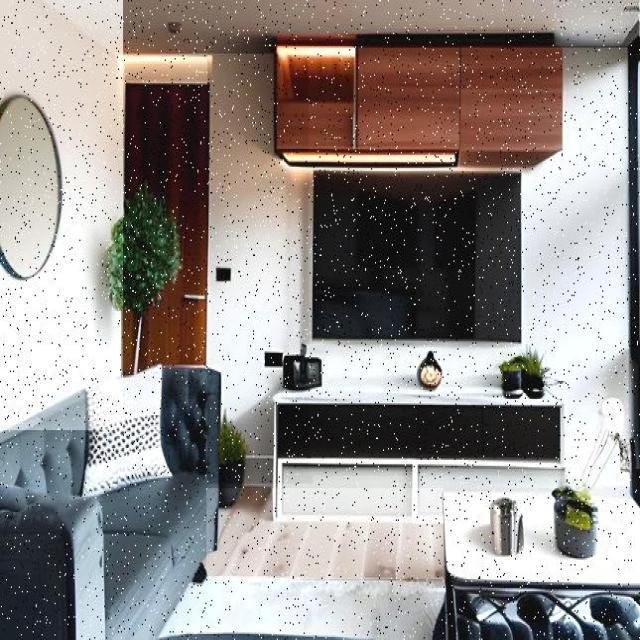Wall: (309, 48, 630, 476), (0, 0, 123, 430), (208, 54, 313, 484), (46, 1, 639, 54), (206, 489, 444, 579)
